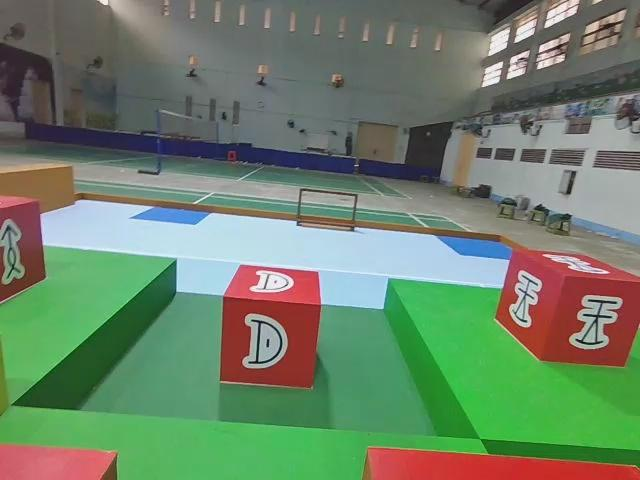R2 Real: (497, 248, 640, 368), (223, 263, 320, 389), (1, 197, 46, 308)
